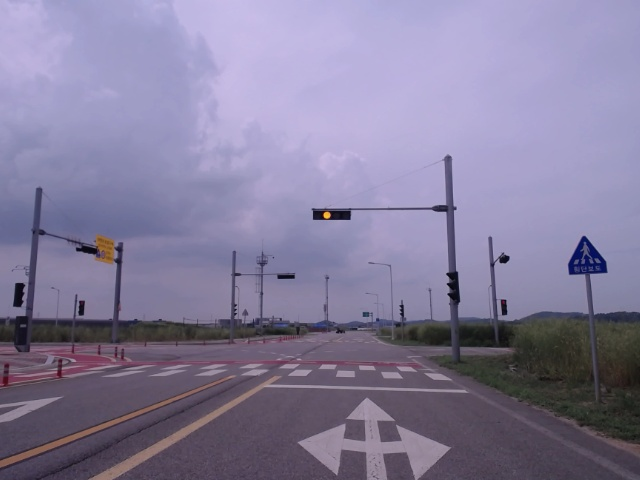orange_4: (313, 208, 351, 221)
